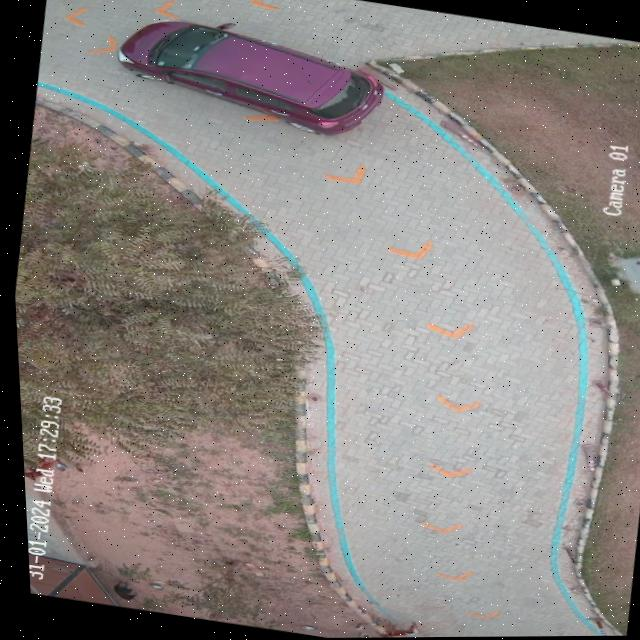car: (118, 17, 386, 134)
